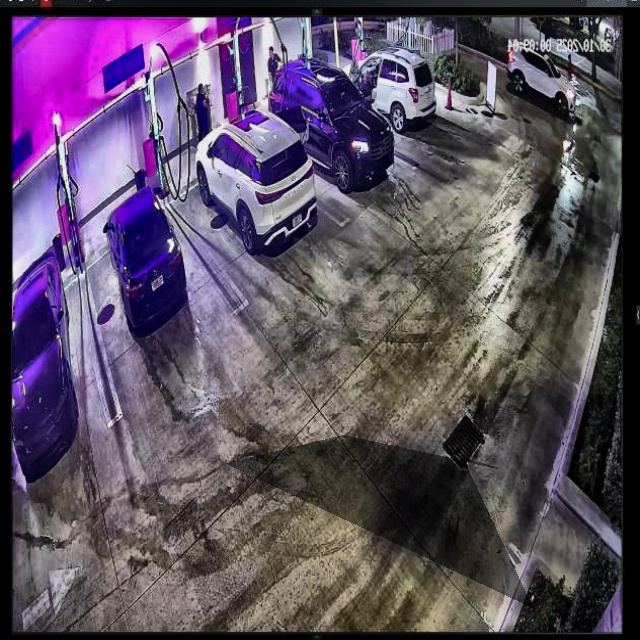Car: (197, 105, 315, 254), (266, 60, 394, 185), (105, 184, 186, 340)
